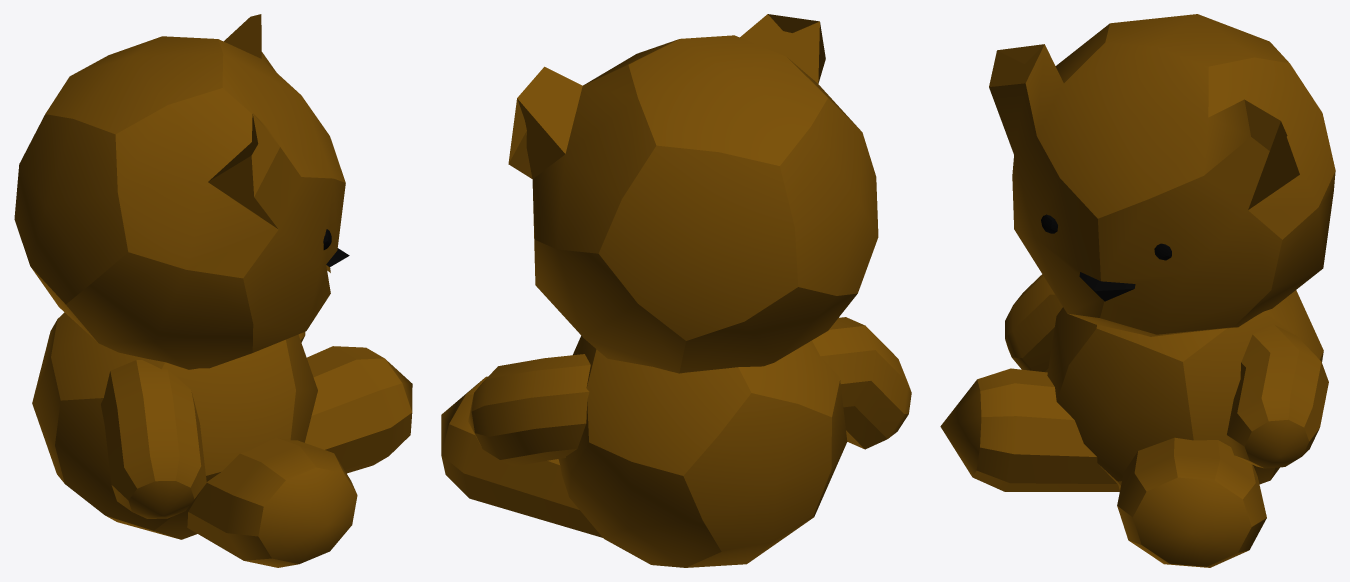
Rendered from teddybear.fbx.
3 views of the same model, side by side, from view 1: azimuth 30°, elevation 25°; view 2: azimuth 150°, elevation 25°; view 3: azimuth 270°, elevation 25° (orthographic). The views are drawn at different scales.
Parts seen in each view (by area): view 1: teddybear; view 2: teddybear; view 3: teddybear.
Boxes of the visible parts, <box> form: teddybear: <box>14,14,412,567</box>; teddybear: <box>441,14,911,567</box>; teddybear: <box>940,14,1335,567</box>.
Size of the model in its own units: 2.56 by 3.03 by 2.34.
